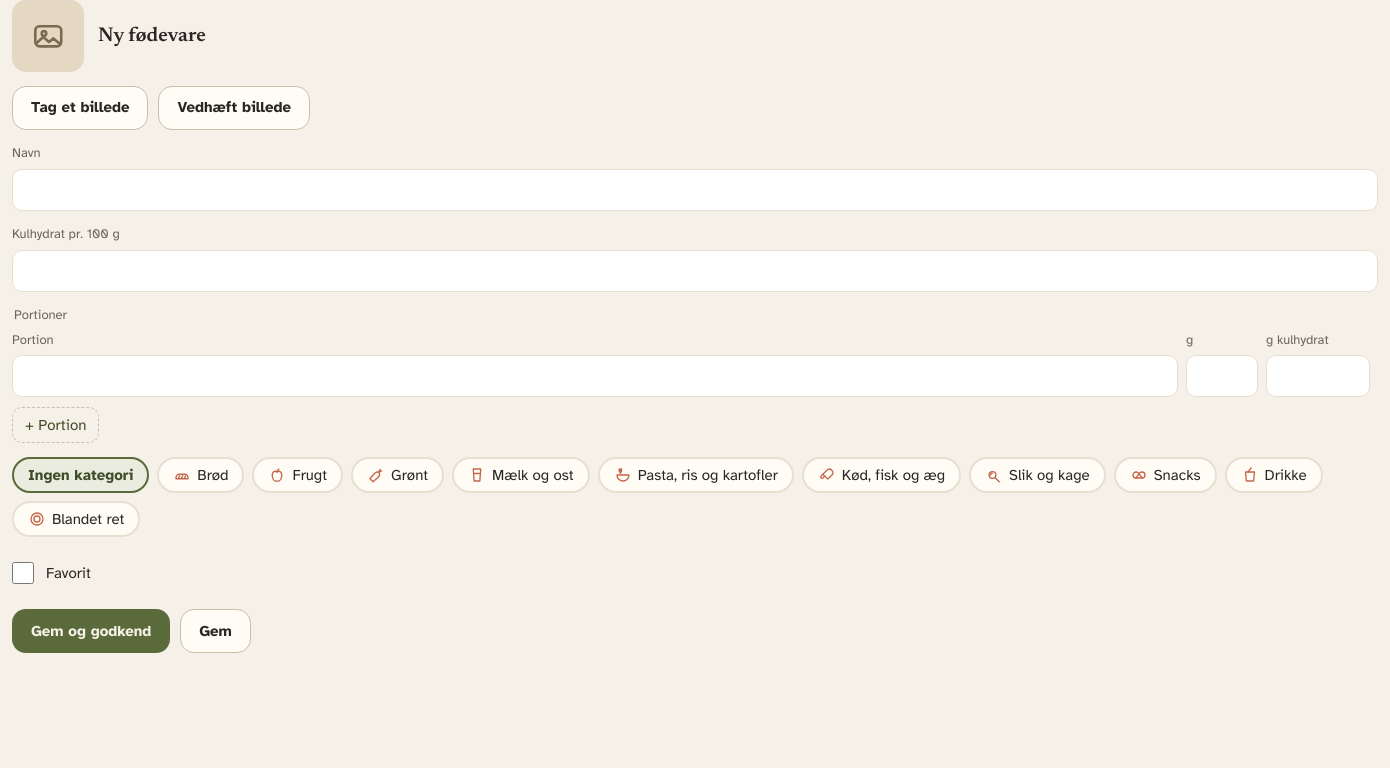
FoodForm (the edit panel's fields) › stops a per-100 g value with two decimals before sending, with its own message (issue 219)
Type "Eksempelkiks" into the field labelled "Navn" at (695, 190), box [12, 169, 1378, 211]
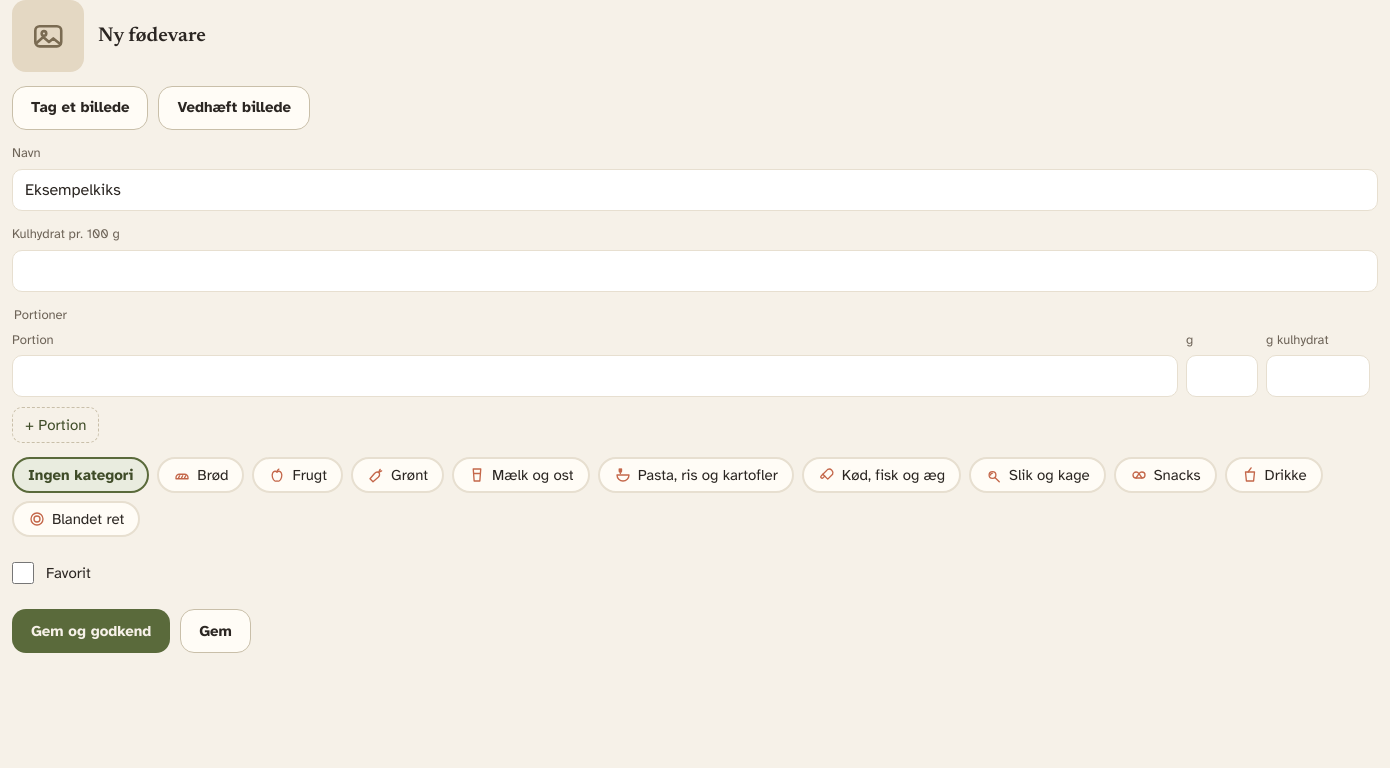
Type "12,34" into the field labelled "Kulhydrat pr. 100 g" at (695, 271), box [12, 250, 1378, 292]
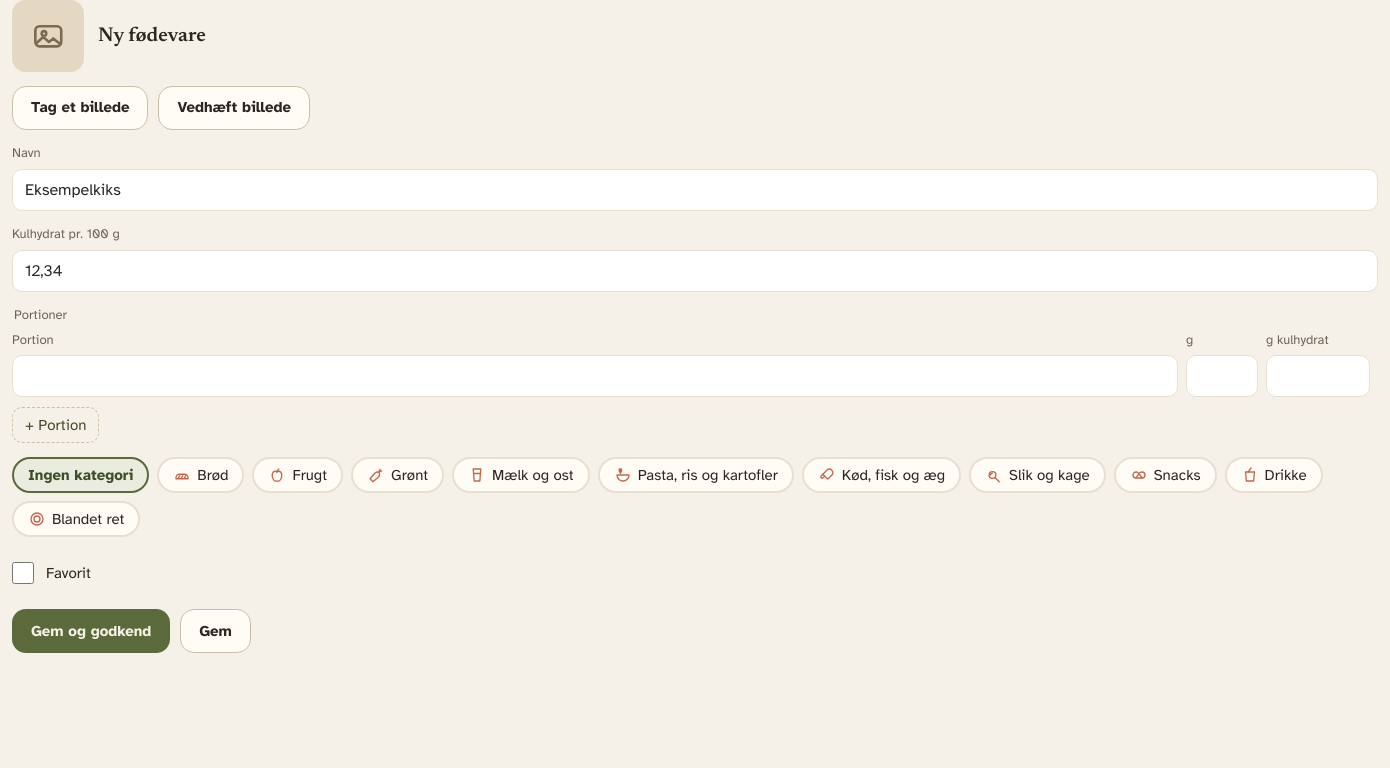
Click the button "Gem" at (216, 631), box [180, 609, 251, 653]
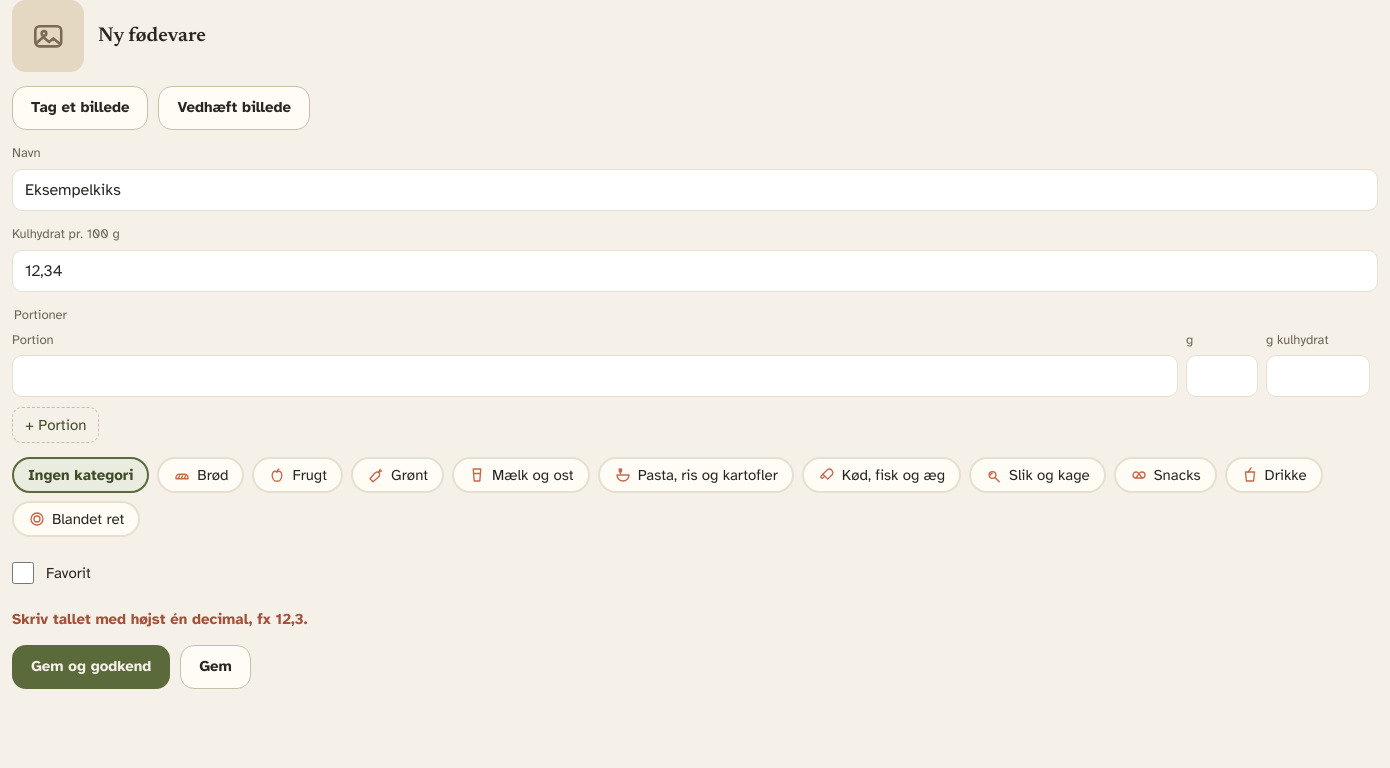
Result: the message reads "Skriv tallet med højst én decimal, fx 12,3." at [12, 610, 307, 628]
